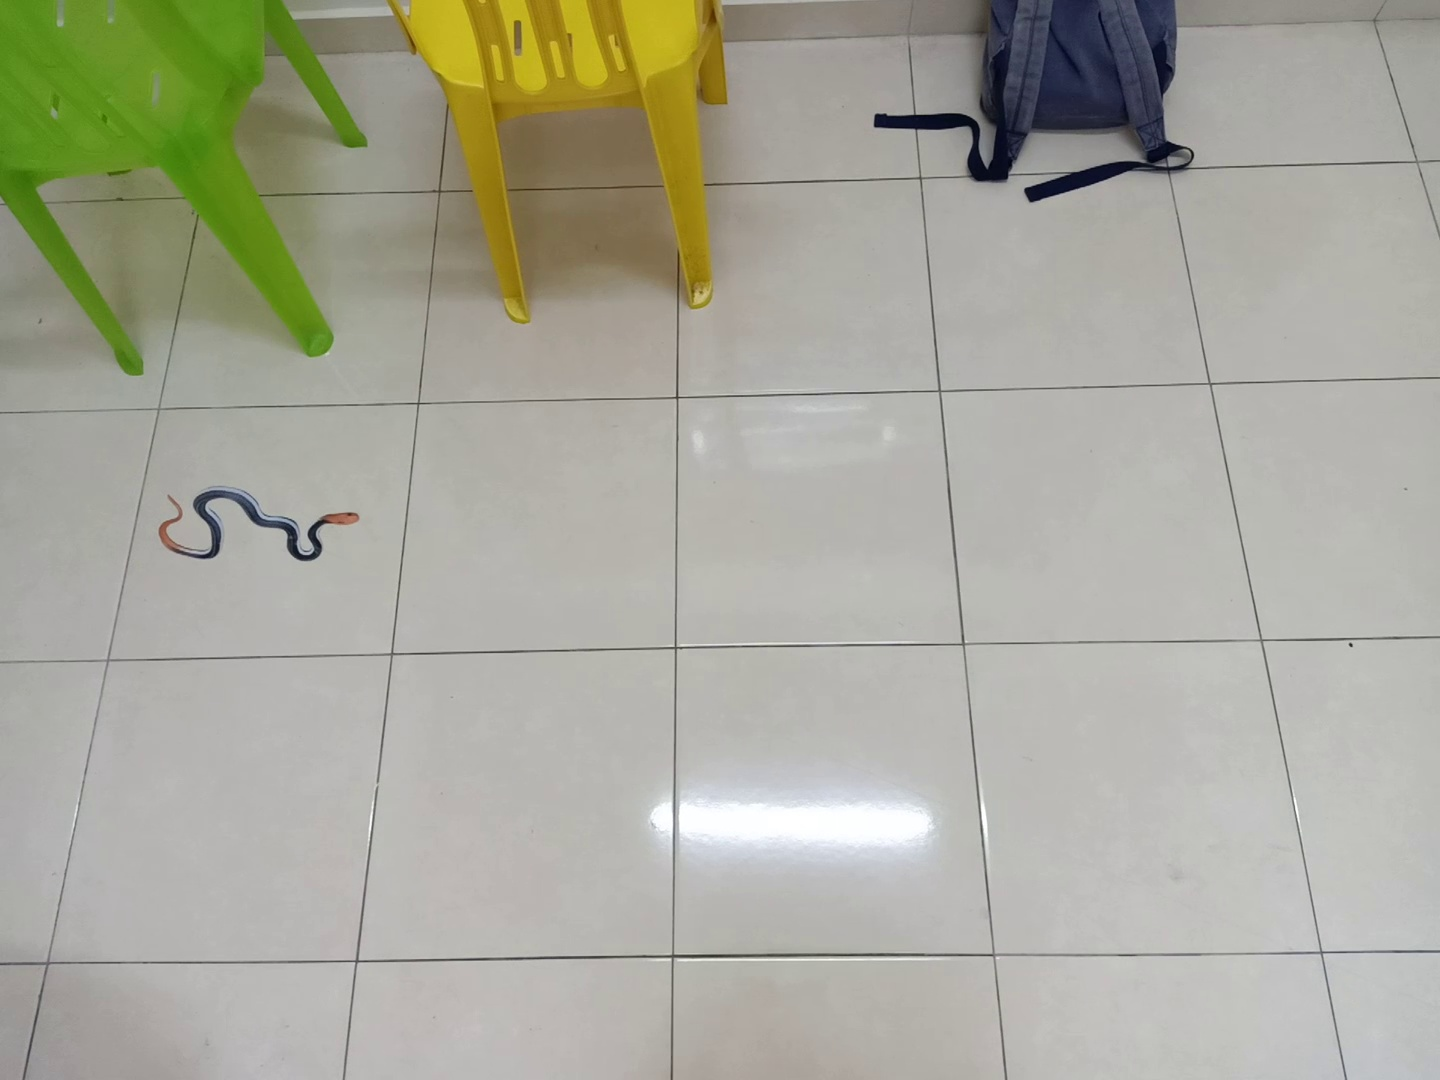snake: (151, 475, 372, 571)
